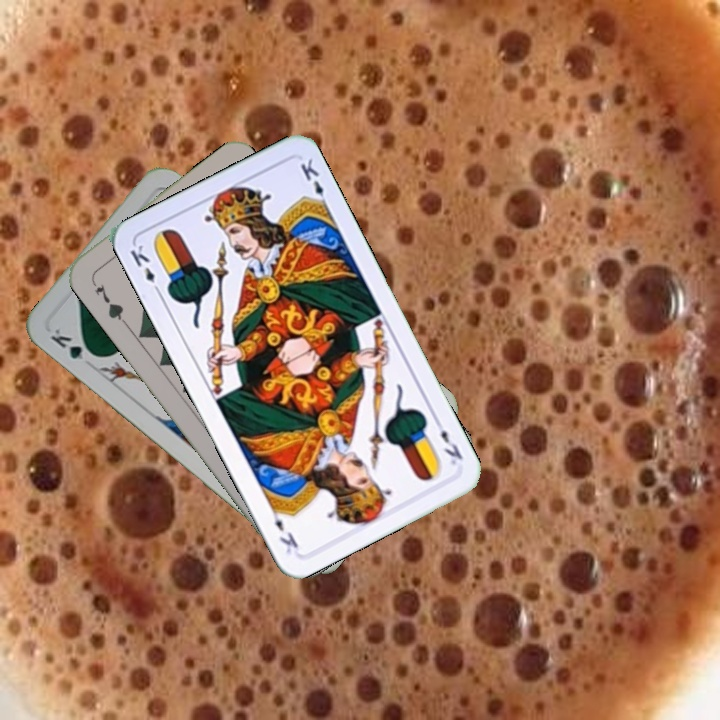EK: (126, 240, 164, 297), (430, 414, 466, 468)
G7: (91, 280, 128, 326)
GK: (47, 323, 100, 363)
